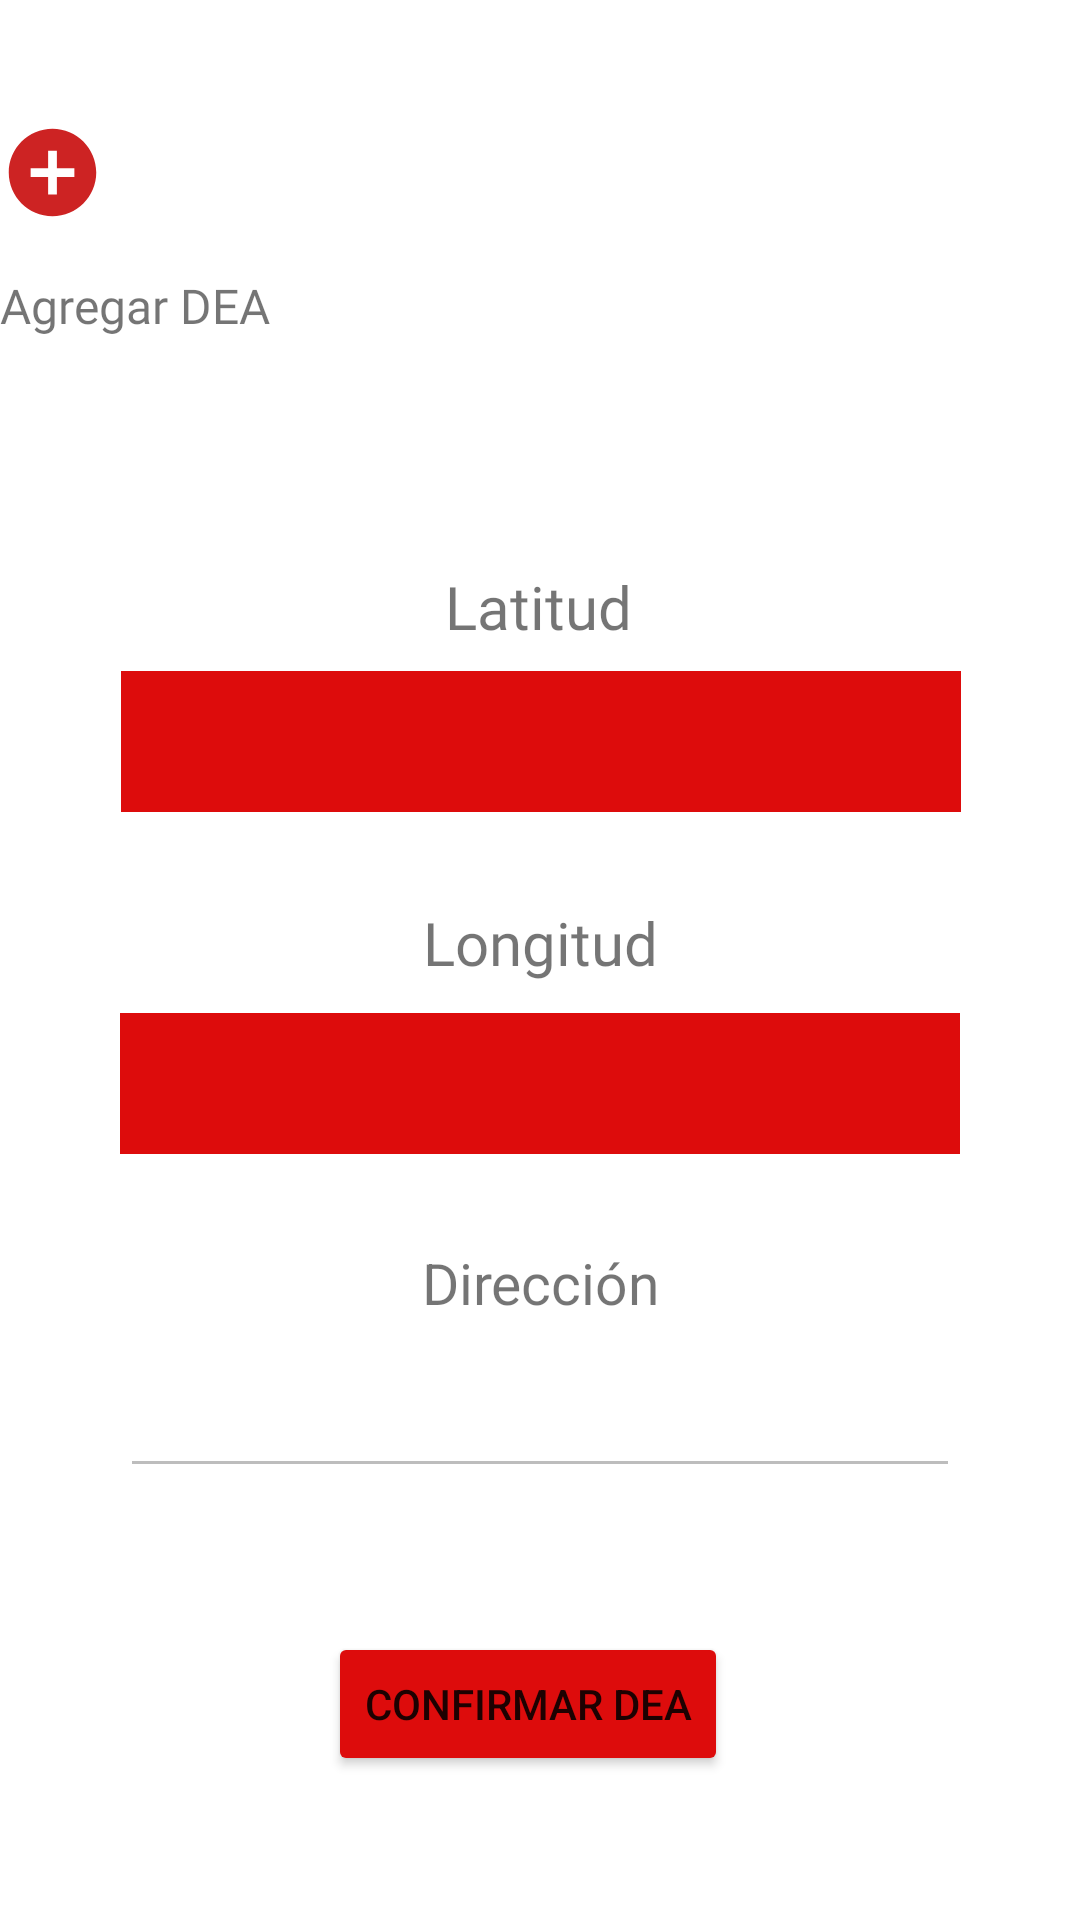

Where icons sit on this 1080w x 1920h app screen, as [x1=x1, y1=y1, x2=x2, y2=y2]:
add circle: [x1=8, y1=128, x2=97, y2=217]
